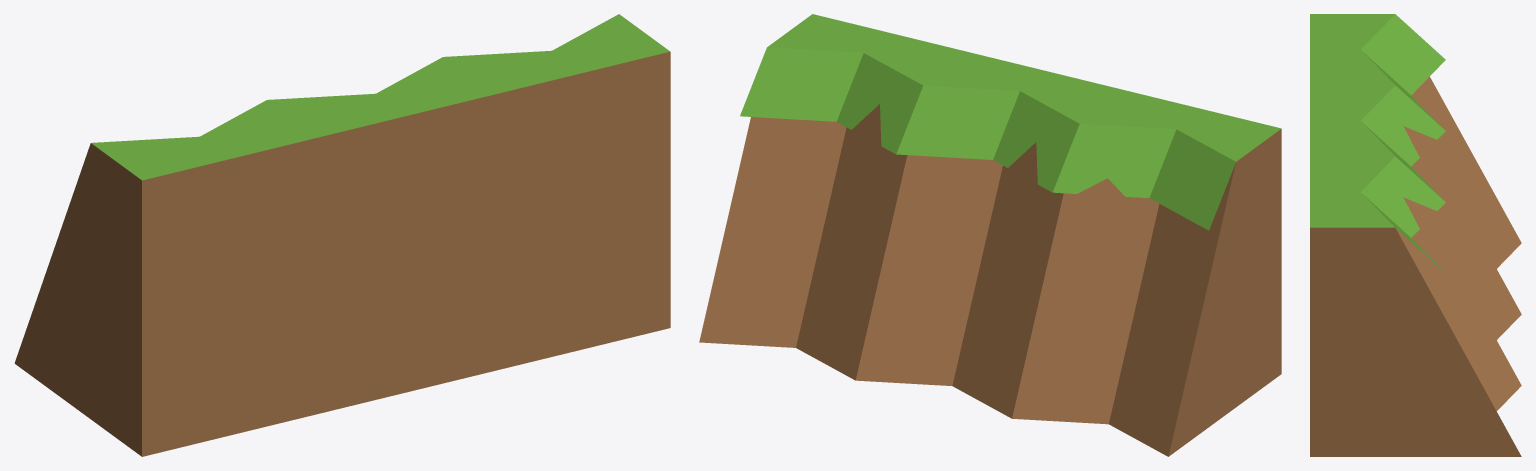
Rendered from cliff_half_rock.glb.
3 views of the same model, side by side, from view 1: azimuth 30°, elevation 25°; view 2: azimuth 150°, elevation 25°; view 3: azimuth 270°, elevation 25° (orthographic). The views are drawn at different scales.
Parts seen in each view (by area): view 1: cliff_half_rock; view 2: cliff_half_rock; view 3: cliff_half_rock.
Part boxes in pixels (x1=…): cliff_half_rock: x1=14, y1=14, x2=670, y2=456; cliff_half_rock: x1=699, y1=14, x2=1281, y2=456; cliff_half_rock: x1=1310, y1=14, x2=1521, y2=456.
Bounding box in the file's own units: 1 × 0.5 × 0.4185.
